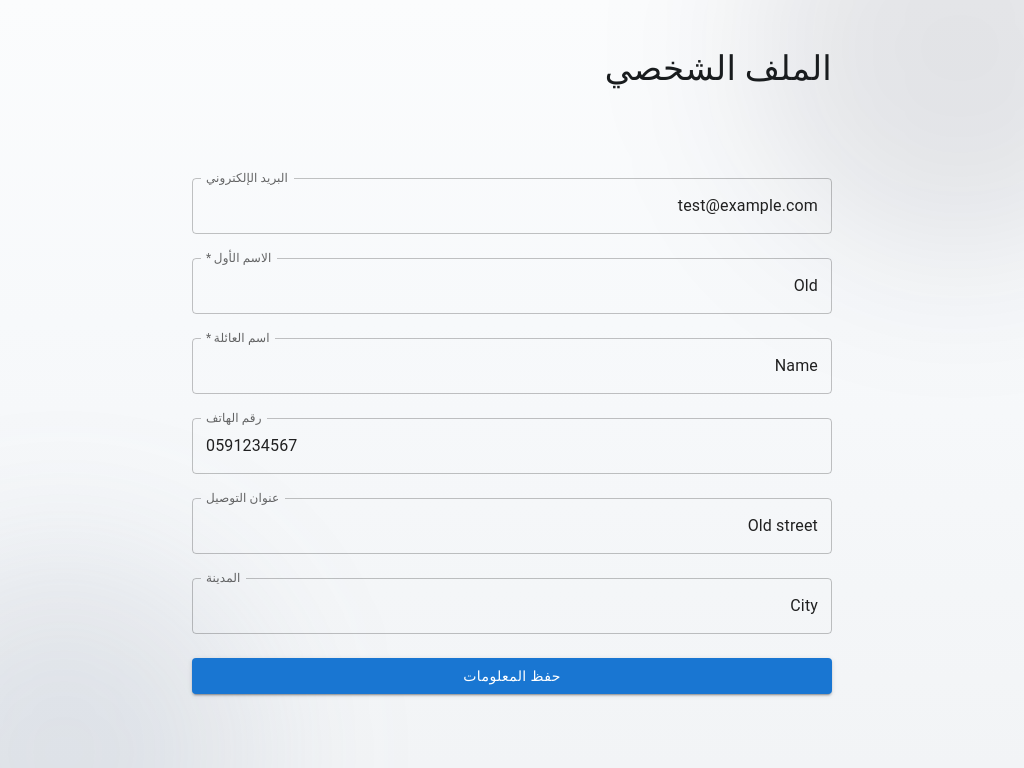
Test case: lets a customer update contact details but keeps email read-only
Replace the text in the field labelled "عنوان التوصيل" with "New address". click: [512, 526]
box: x1=192 y1=498 x2=832 y2=554
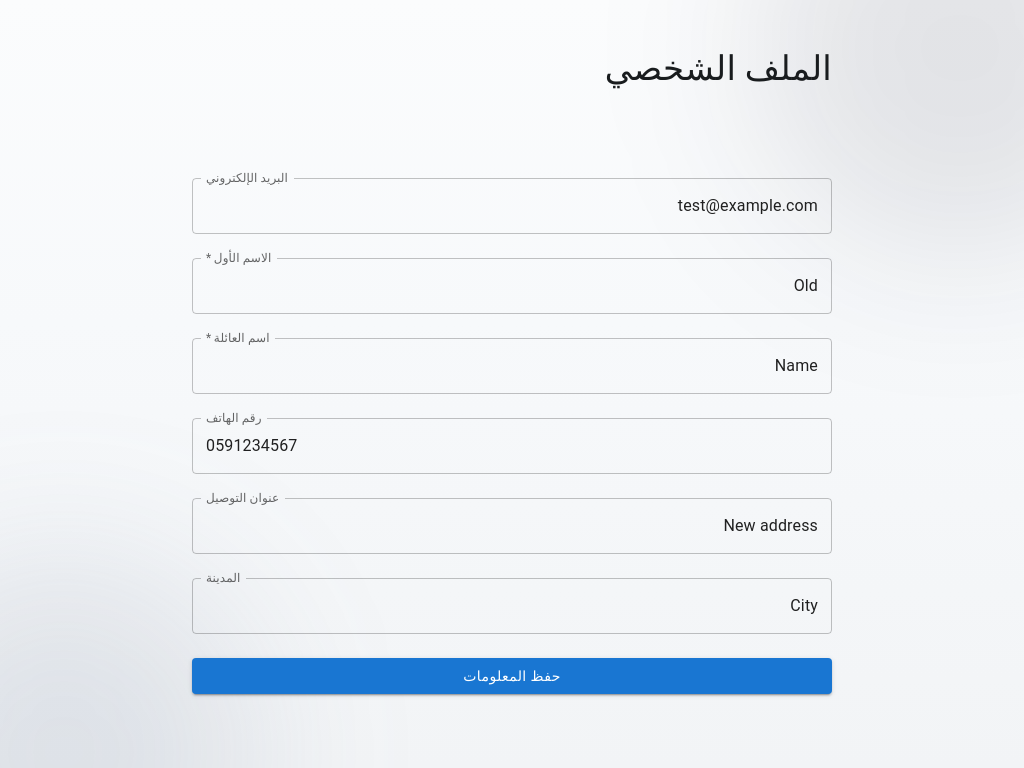
Click the button "حفظ المعلومات". click: [512, 676]
box: x1=192 y1=658 x2=832 y2=694
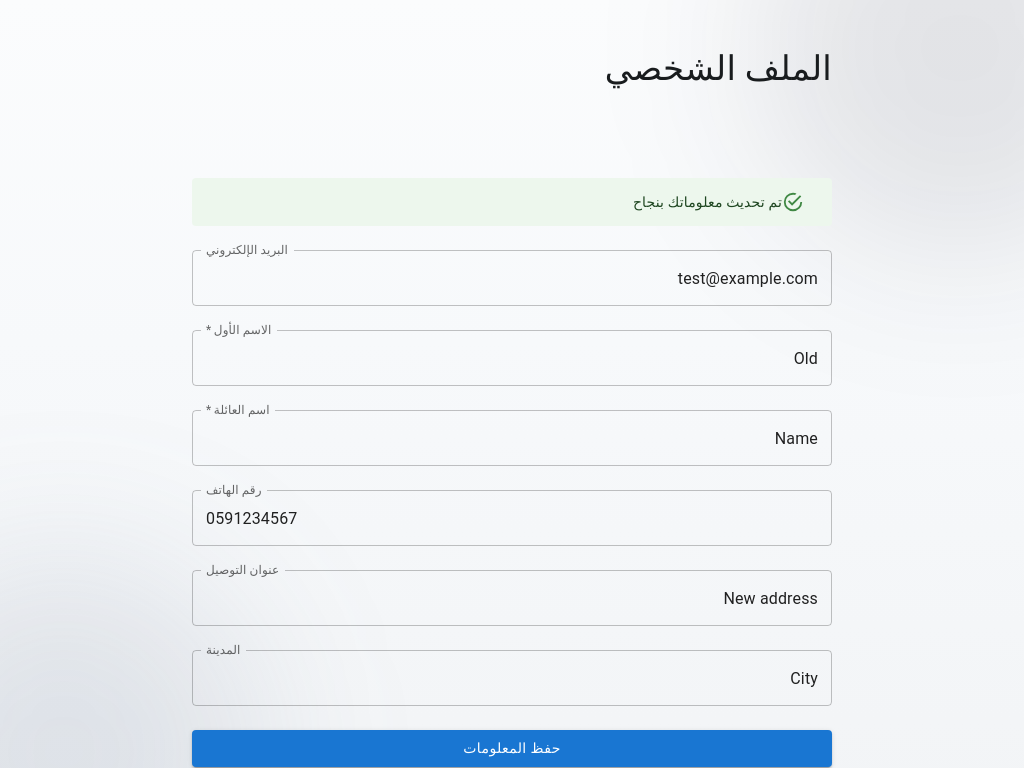
Check: the text "تم تحديث معلوماتك بنجاح" is shown, box x1=633 y1=194 x2=782 y2=210
